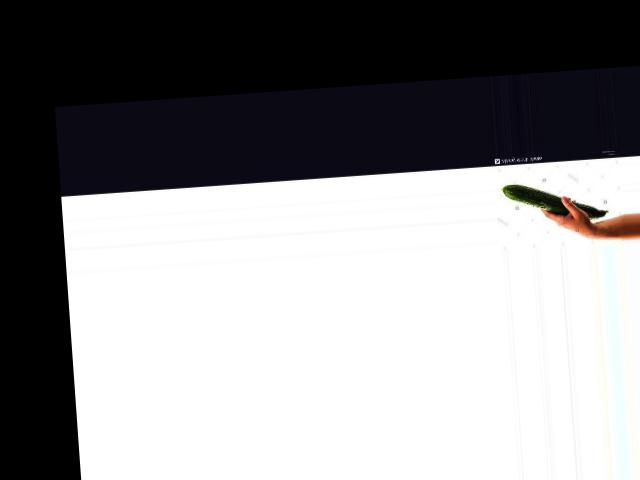cucumber: (502, 177, 609, 225)
